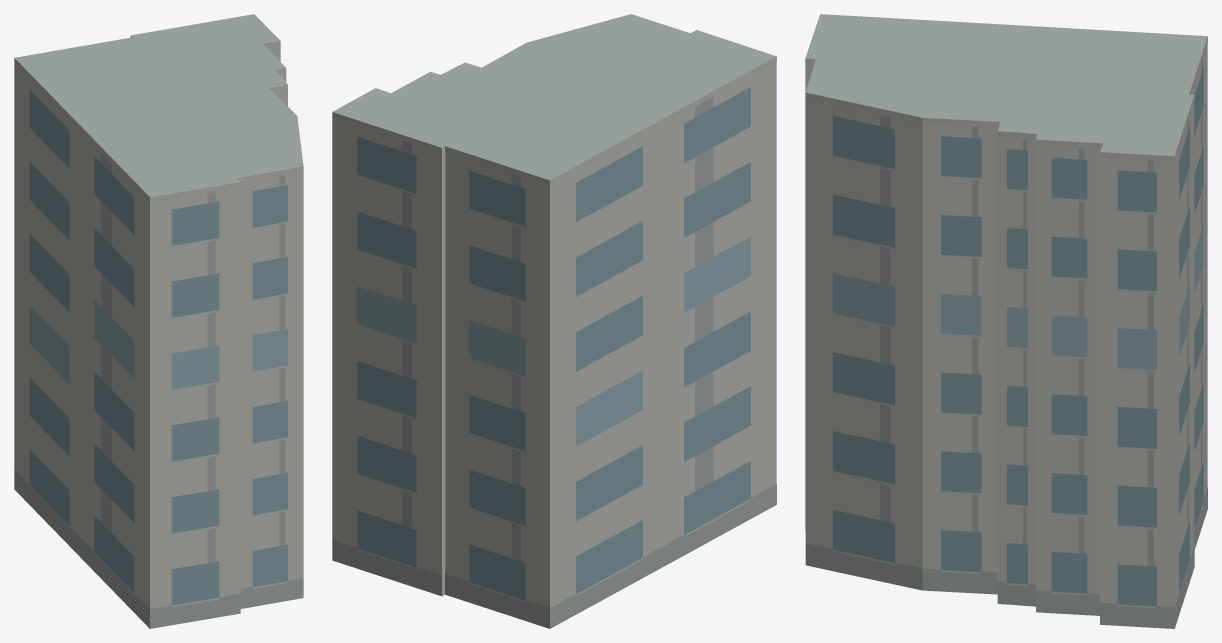
The model's file is survey-upis-32502404.glb.
The picture shows the model from 3 angles, left to right: view 1: azimuth 30°, elevation 25°; view 2: azimuth 150°, elevation 25°; view 3: azimuth 270°, elevation 25°; orthographic projection. The views are drawn at different scales.
Visible parts, largest first — view 1: survey-upis-32502404.tmp; view 2: survey-upis-32502404.tmp; view 3: survey-upis-32502404.tmp.
Part boxes in pixels (bbox=[...]): survey-upis-32502404.tmp: bbox=[14, 14, 303, 628]; survey-upis-32502404.tmp: bbox=[332, 14, 776, 628]; survey-upis-32502404.tmp: bbox=[805, 14, 1207, 628].
Bounding box in the file's own units: 12.52 × 19.4 × 14.99.
